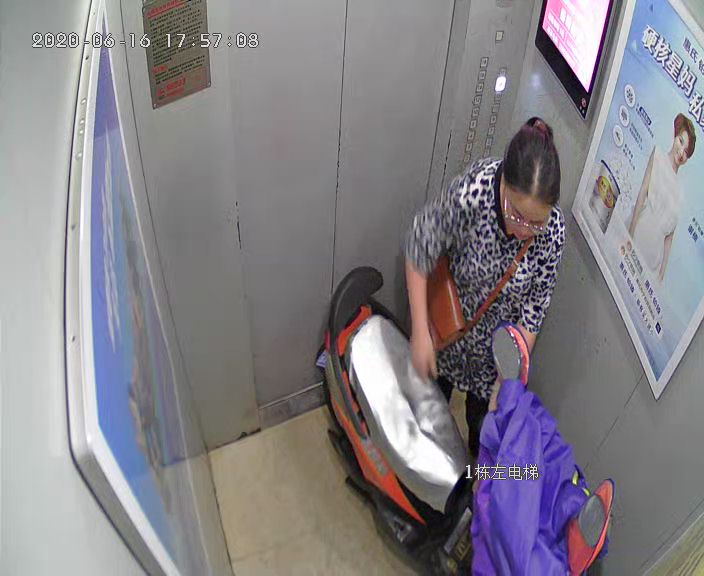Electric-bicycle: (316, 266, 612, 574)
